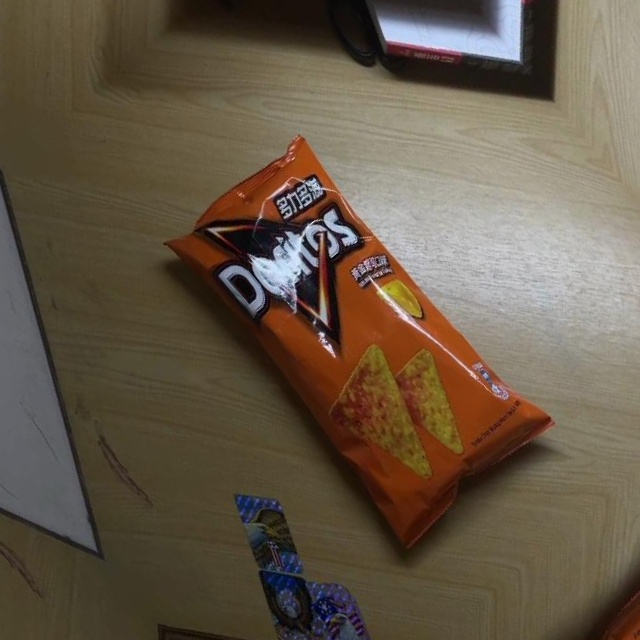Doritos: (153, 122, 561, 554)
